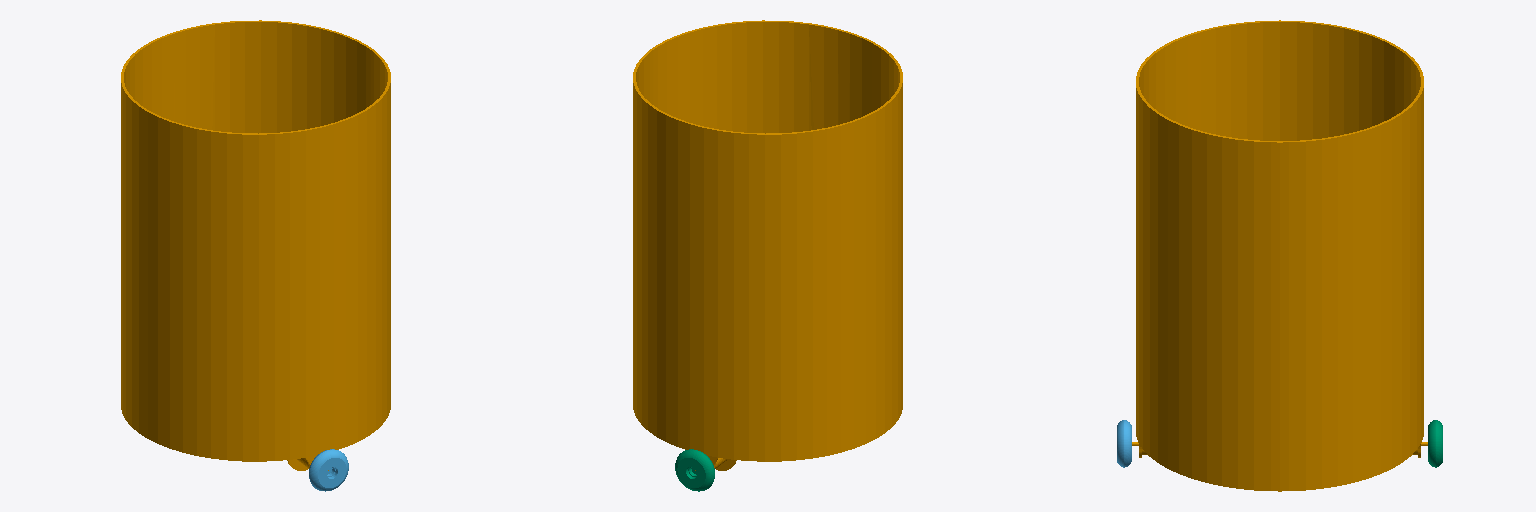
robot.urdf — SelfBalancingRobotv0.1:
<?xml version = "1.0" ?>
<robot name = "SelfBalancingRobotv0.1">

	<link name = "Chassis">
		<visual>
			<origin rpy="0 0 0" xyz = "0 0 0"/>
			<geometry>
				<mesh filename="package://robot_model_1/meshes/robot_assembly-1.STL"/>
			</geometry>
		</visual>
		<collision>
			<origin rpy="0 0 0" xyz = "0 0 0"/>
			<geometry>
				<mesh filename="package://robot_model_1/meshes/robot_assembly-1.STL"/>
			</geometry>
		</collision>
		<inertial>
			<origin xyz = "0 0 0" rpy = "0 0 0"/>
			<mass value = "4.91"/>
			<inertia iyy = "0.30" izz = "0.22" ixx = "0.34" ixy ="0.0" ixz = "0.0" iyz = "0.0"/>
		</inertial>
	</link> 




	<link name="right_wheel">
		<visual>
			<origin xyz = "0 -0.2344 0.26286" rpy = "0 0 3.1415927"/>
			<geometry>
				<mesh filename="package://robot_model_1/meshes/right_wheel-1.STL"/>
			</geometry>
		</visual>
		<collision>
			<origin xyz = "0 -0.2344 0.26286" rpy = "0 0 3.1415927"/>
			<geometry>
				<mesh filename="package://robot_model_1/meshes/right_wheel-1.STL"/>
			</geometry>
		</collision>
		<inertial>
			<origin xyz = "0 0.01174 0" />
			<mass value = "0.1"/>
			<inertia iyy = "0.000068067" izz = "0.000038287" ixx = "0.000038287" ixy ="0.0" ixz = "0.0" iyz = "0.0"/>
		</inertial>
	</link>

	 <joint name="right_wheel_joint" type = "continuous">
		<parent link="Chassis"/>
		<child link = "right_wheel"/>
		<origin xyz = "0 -0.2344 -0.26286" rpy = "0 0 3.1415927"/>
		<limit effort = "10000" velocity = "10000"/>
		<axis xyz = "0 1 0"/>
	</joint> 



	<link name="left_wheel">
		<visual>
			<origin xyz = "0 -0.2344 0.26286" rpy = "0 0 0"/>
			<geometry>
				<mesh filename="package://robot_model_1/meshes/left_wheel-1.STL"/>
			</geometry>
		</visual>
		<collision>
			<origin xyz = "0 -0.2344 0.26286" rpy = "0 0 0"/>
			<geometry>
				<mesh filename="package://robot_model_1/meshes/left_wheel-1.STL"/>
			</geometry>
		</collision>
		<inertial>
			<origin xyz = "0 0.01174 0"/>
			<mass value = "0.1"/>
			<inertia iyy = "0.000068067" izz = "0.000038287" ixx = "0.000038287" ixy ="0.0" ixz = "0.0" iyz = "0.0"/>
		</inertial>
	</link>

	 <joint name="left_wheel_joint" type = "continuous">
		<parent link="Chassis"/>
		<child link = "left_wheel"/>
		<origin xyz = "0 0.2344 -0.26286" rpy = "0 0 0"/>
		<axis xyz = "0 1 0"/>
	
	</joint> 
	
	<gazebo>
		<selfCollide>true</selfCollide>
	</gazebo>
	
	<gazebo>
		<plugin name="differential_drive_controller" filename="libgazebo_ros_diff_drive.so">
			<alwaysOn>true</alwaysOn>
			<legacyMode>false</legacyMode>
			<updateRate>40</updateRate>
			<leftJoint> left_weel_joint</leftJoint>
			<rightJoint>right_wheel_joint</rightJoint>
			<wheelSeparation>0.52572</wheelSeparation>
			<wheelDiameter>0.076</wheelDiameter>
			<wheelTorque>0.045</wheelTorque>
			<commandTopic>cmd_vel</commandTopic>
    		<odometryTopic>odom</odometryTopic>
    		<odometryFrame>odom</odometryFrame>
    		<robotBaseFrame>Chassis</robotBaseFrame>
		</plugin>
	</gazebo>	
	<gazebo reference="Chassis">
		<gravity>true</gravity>
		<sensor name="imu_sensor" type="imu">
		  <always_on>true</always_on>
		  <update_rate>100</update_rate>
		  <visualize>true</visualize>
		  <topic>__default_topic__</topic>
		  <plugin filename="libgazebo_ros_imu_sensor.so" name="imu_plugin">
		    <topicName>imu</topicName>
		    <bodyName>Chassis</bodyName>
		    <updateRateHZ>10.0</updateRateHZ>
		    <gaussianNoise>0.0</gaussianNoise>
		    <xyzOffset>0 0 0</xyzOffset>
		    <rpyOffset>0 0 0</rpyOffset>
		    <frameName>Chassis</frameName>
		  </plugin>
		  <pose>0 0 0 0 0 0</pose>
		</sensor>
	</gazebo>
	
</robot>

--- Facts derived from the render (not from the file) ---
3 views of the same robot in one strip: view 1: azimuth 30°, elevation 25°; view 2: azimuth 150°, elevation 25°; view 3: azimuth 270°, elevation 25° (orthographic).
Robot: SelfBalancingRobotv0.1 — 3 links, 2 joints (2 continuous); root link Chassis; default pose: every joint at zero.
Visible links, largest first — view 1: Chassis, right_wheel; view 2: Chassis, left_wheel; view 3: Chassis, right_wheel, left_wheel.
Link boxes in pixels (<box>): Chassis: <box>121,20,390,470</box>; right_wheel: <box>309,449,348,491</box>; Chassis: <box>633,20,902,470</box>; left_wheel: <box>675,449,714,491</box>; Chassis: <box>1132,20,1427,491</box>; right_wheel: <box>1117,420,1131,467</box>; left_wheel: <box>1428,420,1442,467</box>.
Bounding box of the posed robot: 0.4572 × 0.5168 × 0.6708 m (x, y, z).
Meshes: 3 distinct files referenced, 3 mesh visuals loaded (3 binary STL).